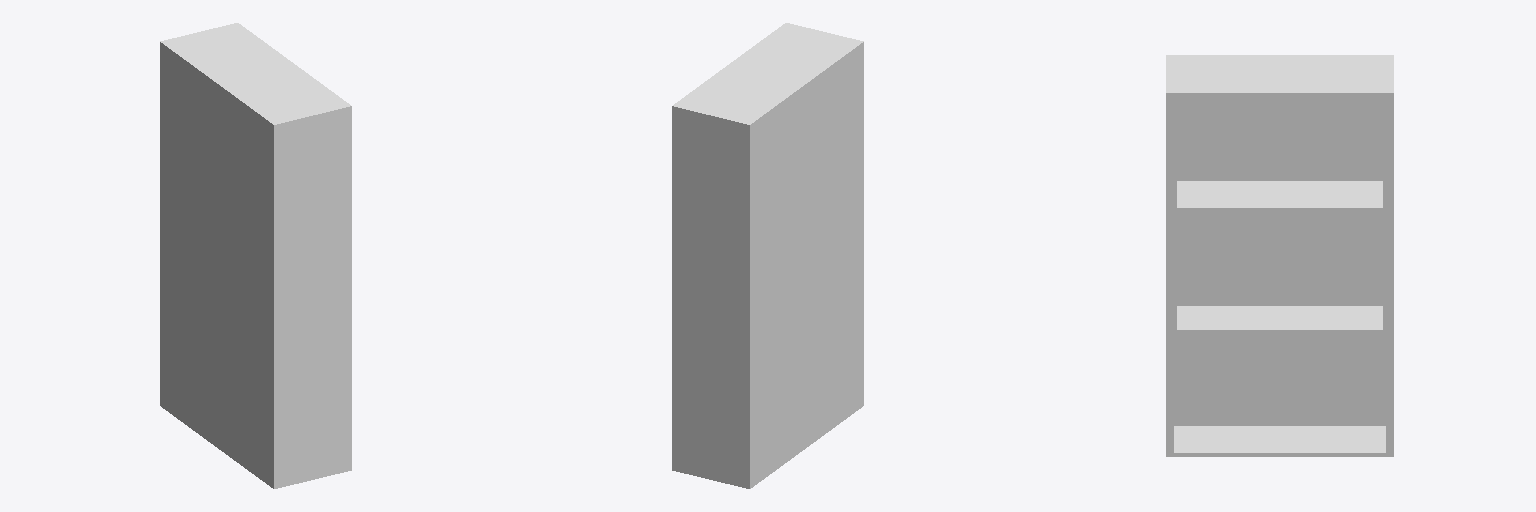
The model's file is bookshelf.obj.
The picture shows the model from 3 angles: view 1: azimuth 30°, elevation 25°; view 2: azimuth 150°, elevation 25°; view 3: azimuth 270°, elevation 25°; orthographic projection.
Parts seen in each view (by area): view 1: pCube1; view 2: pCube1; view 3: pCube1.
Part boxes in pixels (bbox=[...]): pCube1: bbox=[160, 23, 351, 488]; pCube1: bbox=[672, 23, 863, 488]; pCube1: bbox=[1166, 55, 1393, 456].
Bounding box in the file's own units: 1 × 4.46 × 2.53.